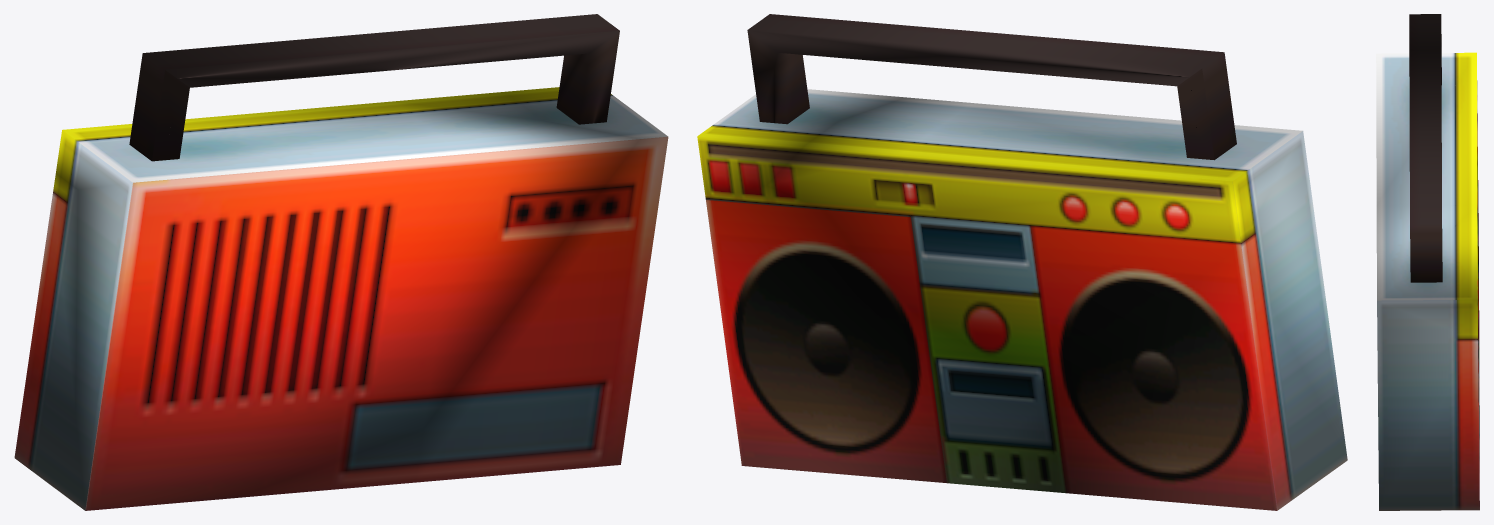
The model's file is unlocker_fresh.fbx.
The picture shows the model from 3 angles, left to right: view 1: azimuth 30°, elevation 25°; view 2: azimuth 150°, elevation 25°; view 3: azimuth 270°, elevation 25°; orthographic projection. The views are drawn at different scales.
Parts seen in each view (by area): view 1: unlocker_fresh; view 2: unlocker_fresh; view 3: unlocker_fresh.
Part boxes in pixels (x1,y1,x2,y2): unlocker_fresh: (14, 14, 668, 510); unlocker_fresh: (697, 14, 1347, 510); unlocker_fresh: (1376, 14, 1479, 510).
Size of the model in its own units: 8.36 by 6.66 by 1.81.
